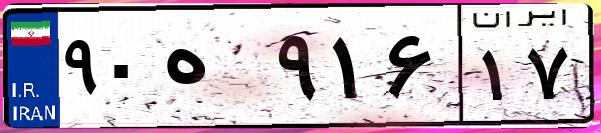0: (110, 28, 158, 98)
1: (330, 28, 385, 110), (475, 38, 525, 113)
6: (385, 28, 445, 110)
7: (525, 38, 570, 115)
9: (270, 28, 330, 110), (57, 26, 110, 100)
ه: (158, 20, 270, 120)
